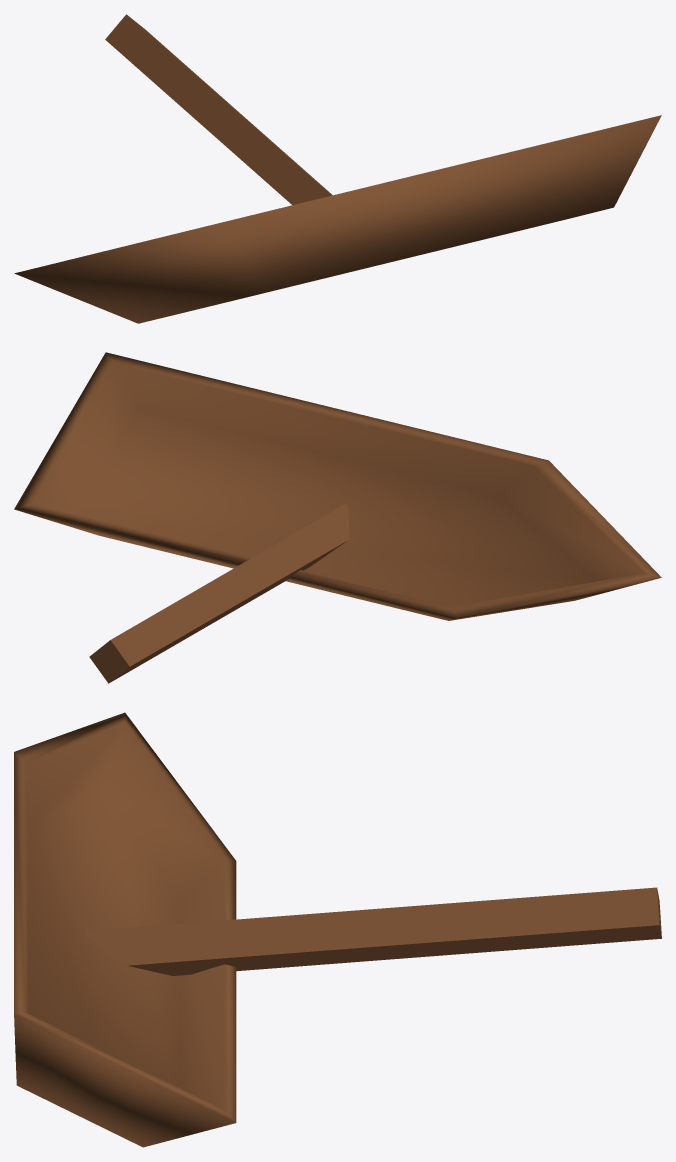
The model's file is SM_BrokenBoat.fbx.
The picture shows the model from 3 angles, top to bottom: view 1: azimuth 30°, elevation 25°; view 2: azimuth 150°, elevation 25°; view 3: azimuth 270°, elevation 25°; orthographic projection. The views are drawn at different scales.
Visible parts, largest first — view 1: Cylinder; view 2: Cylinder; view 3: Cylinder.
Part boxes in pixels (<box>): Cylinder: <box>14,14,661,323</box>; Cylinder: <box>14,352,661,683</box>; Cylinder: <box>14,712,661,1147</box>.
Size of the model in its own units: 11.91 by 2.52 by 9.16.
